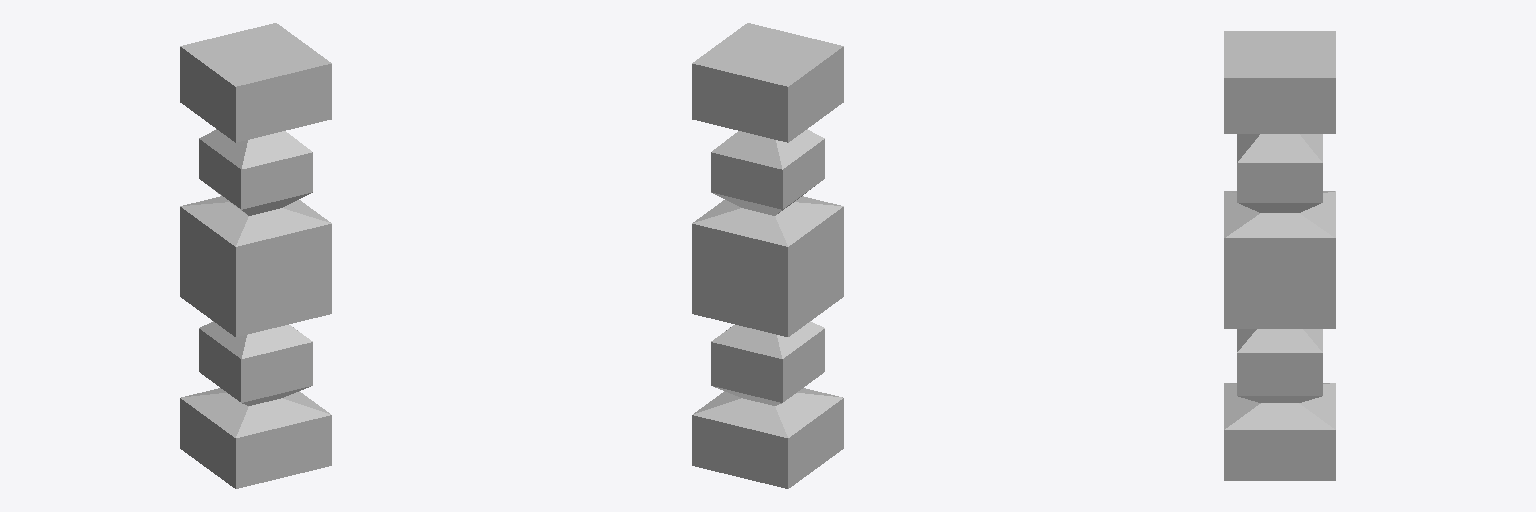
The model's file is Pillar.obj.
3 renders of one model, left to right at view 1: azimuth 30°, elevation 25°; view 2: azimuth 150°, elevation 25°; view 3: azimuth 270°, elevation 25°, orthographic.
Visible parts, largest first — view 1: pCube1; view 2: pCube1; view 3: pCube1.
Part boxes in pixels (x1,y1,x2,y2): pCube1: (180, 23, 331, 488); pCube1: (692, 23, 843, 488); pCube1: (1224, 31, 1335, 480).
Size of the model in its own units: 1 by 3.99 by 1.